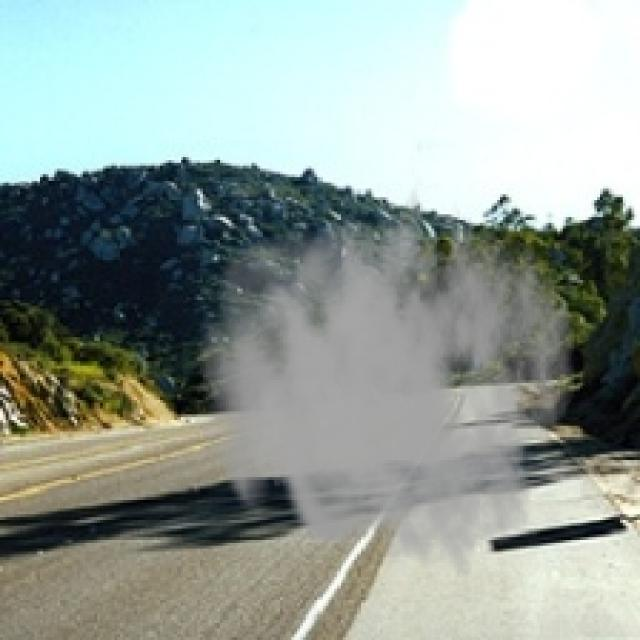Smoke: (197, 168, 577, 580)
